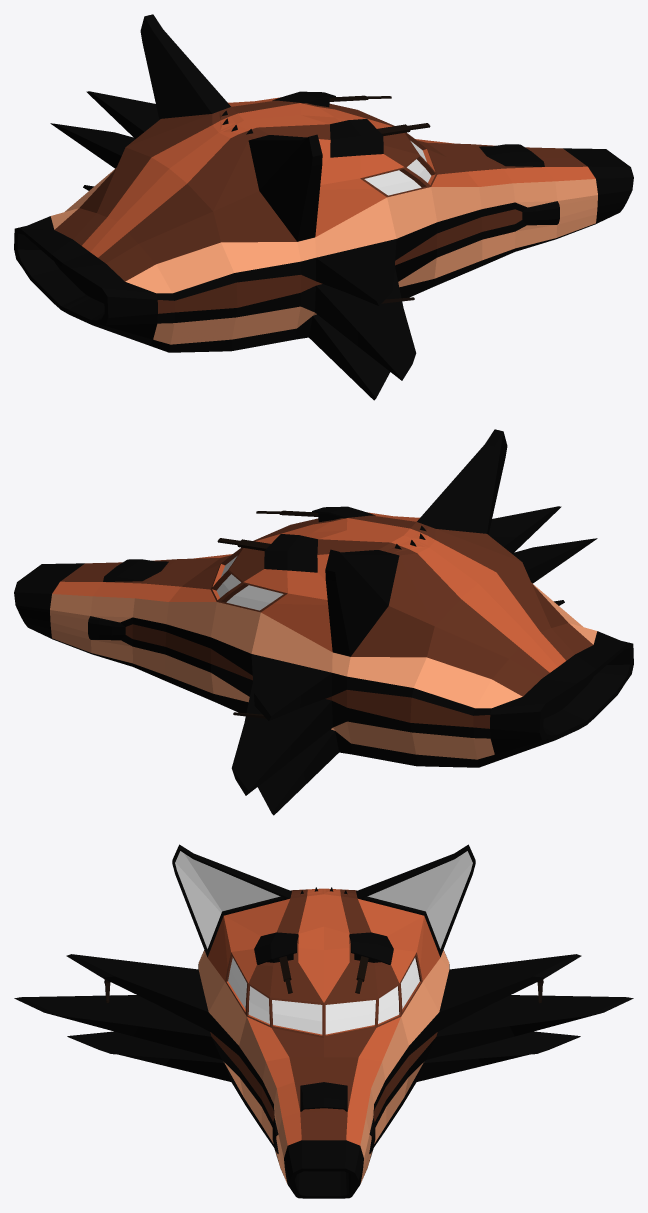
The model's file is Spaceship-buena.fbx.
The picture shows the model from 3 angles, top to bottom: view 1: azimuth 30°, elevation 25°; view 2: azimuth 150°, elevation 25°; view 3: azimuth 270°, elevation 25°; orthographic projection. The views are drawn at different scales.
Visible parts, largest first — view 1: Nave.001; view 2: Nave.001; view 3: Nave.001.
Boxes of the visible parts, x1=… form: Nave.001: x1=14, y1=14, x2=633, y2=400; Nave.001: x1=14, y1=429, x2=633, y2=815; Nave.001: x1=14, y1=844, x2=633, y2=1198.
Bounding box in the file's own units: 1166 × 401 × 1066.
